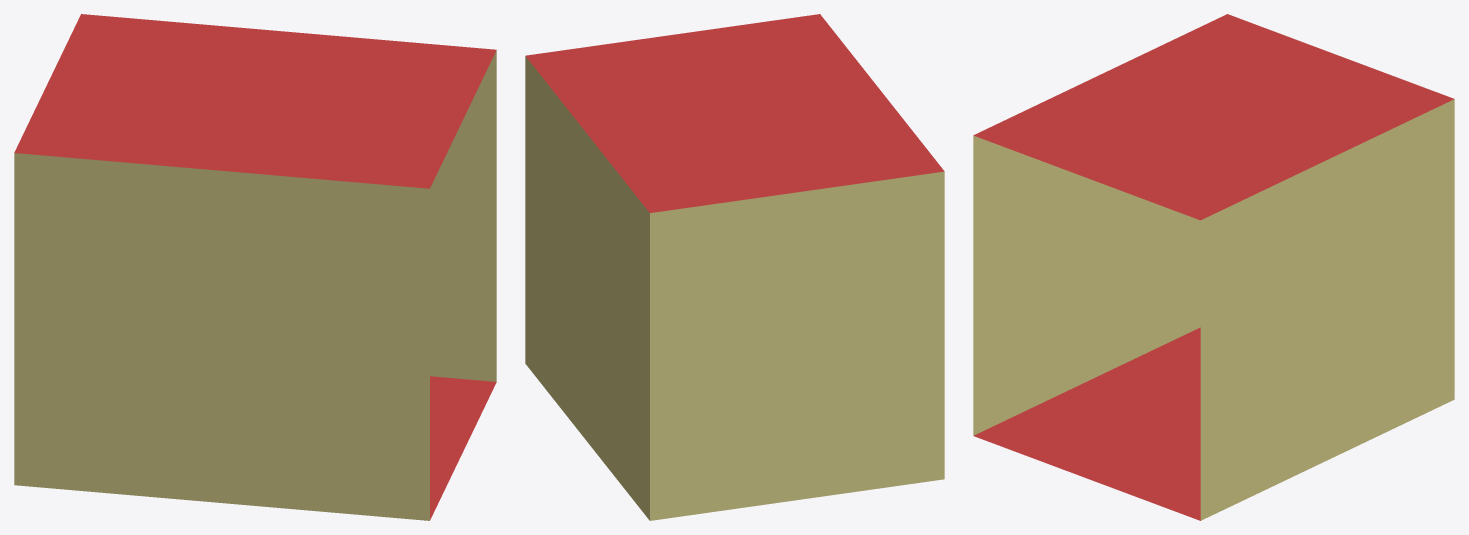
3 renders of one model, left to right at view 1: azimuth 30°, elevation 25°; view 2: azimuth 150°, elevation 25°; view 3: azimuth 270°, elevation 25°, orthographic. The views are drawn at different scales.
Bounding box in the file's own units: 8.02 × 7.91 × 5.44.
